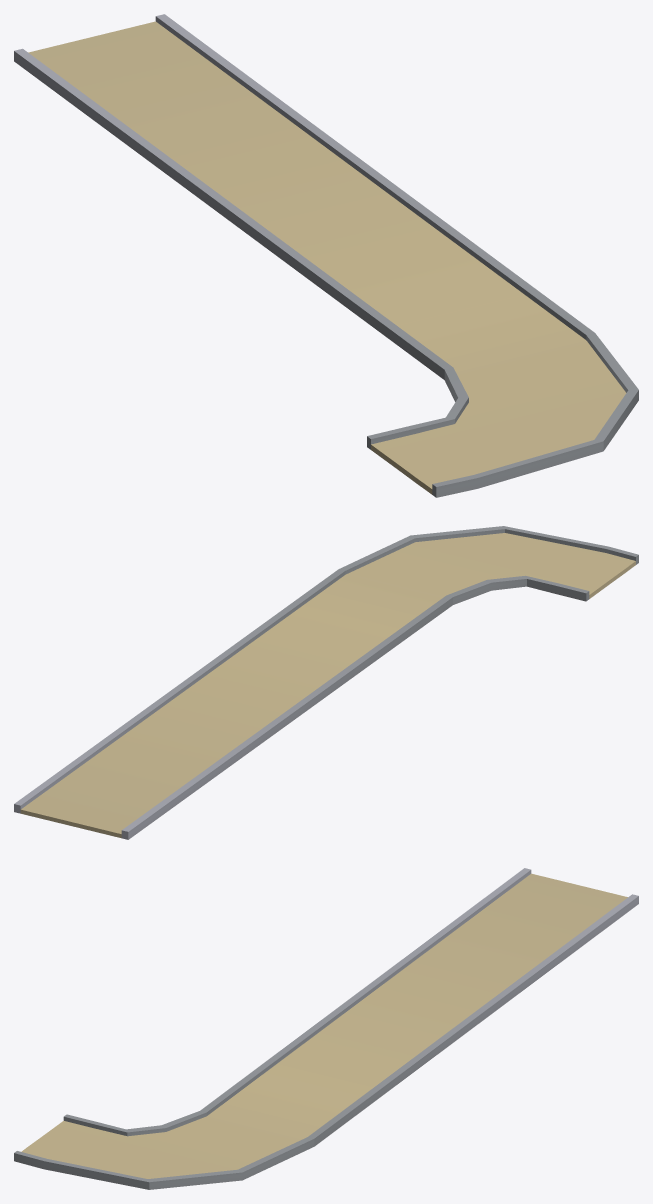
The model's file is sidewalk_26.fbx.
3 views of the same model, one above another, from view 1: azimuth 30°, elevation 25°; view 2: azimuth 150°, elevation 25°; view 3: azimuth 330°, elevation 25° (orthographic). The views are drawn at different scales.
Visible parts, largest first — view 1: sidewalk_25; view 2: sidewalk_25; view 3: sidewalk_25.
Part boxes in pixels (x1,y1,x2,y2): sidewalk_25: (14,14,638,497); sidewalk_25: (14,526,638,839); sidewalk_25: (14,868,638,1189).
Size of the model in its own units: 0.7439 by 0.0409 by 2.55.
Materials: 1 (1 with a texture image).
